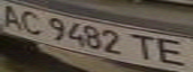2: (100, 26, 127, 57)
4: (63, 20, 84, 47)
8: (81, 24, 103, 52)
9: (42, 15, 69, 43)
A: (0, 2, 27, 30)
C: (15, 8, 48, 36)
E: (154, 36, 193, 69)
T: (127, 32, 160, 63)
